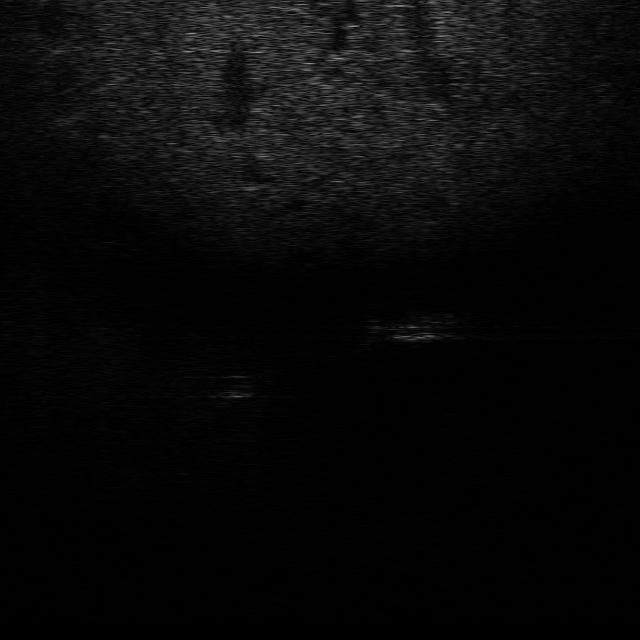ball: (212, 369, 260, 401)
human body: (358, 306, 458, 352)
